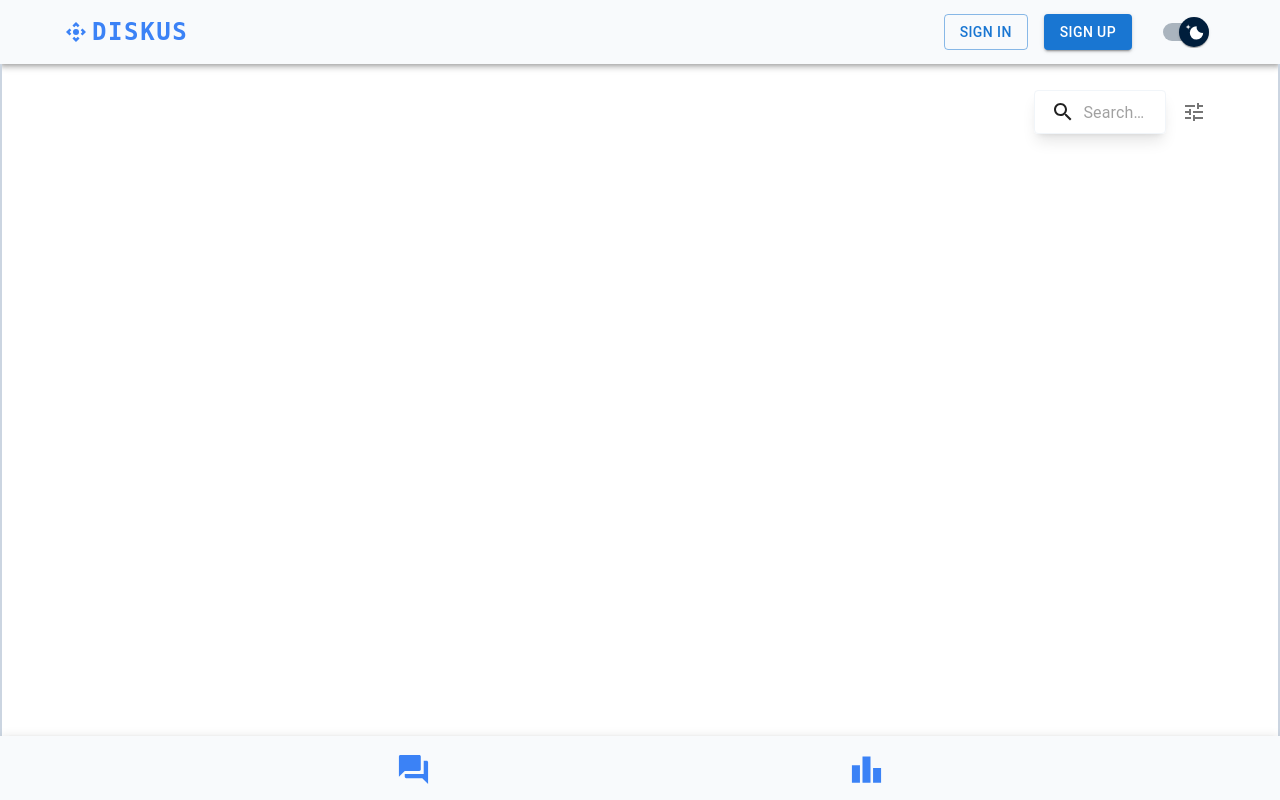
Login spec › should correctly display the login modal when the login button is clicked
Click the button "SIGN IN".
click(986, 33)  # box [944,14,1028,51]
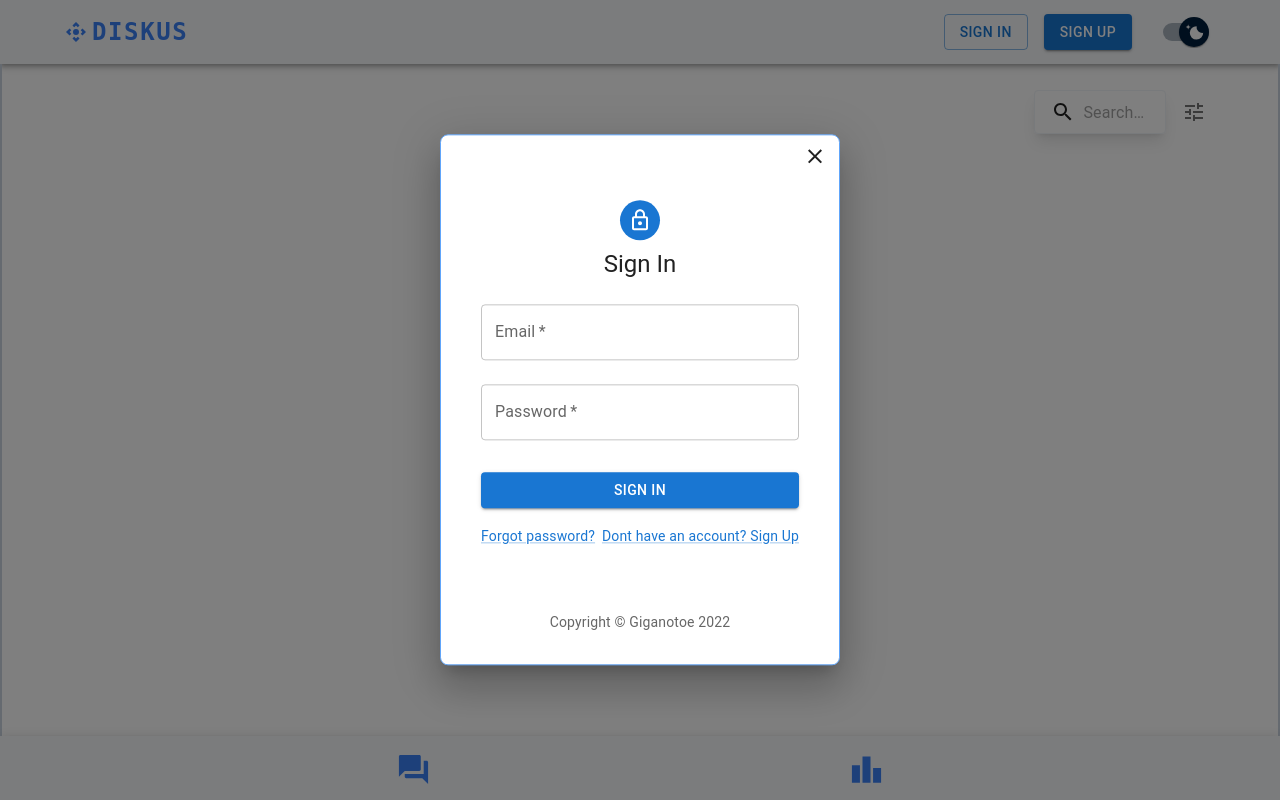
Expected: the field named "email" is shown, [481,304,799,360]
Expected: the password field named "password" is shown, [481,384,799,440]
Expected: the button "Sign In" is shown, [481,472,799,509]
